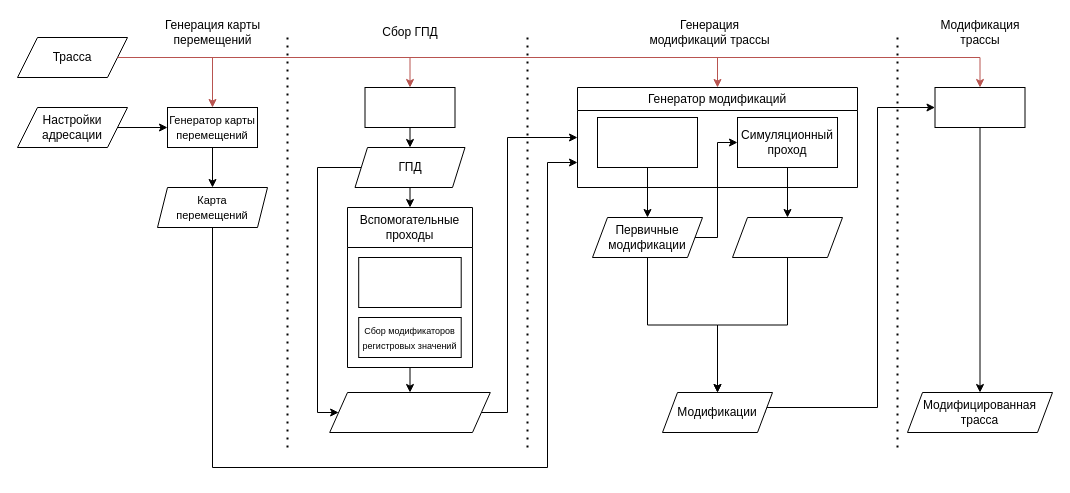
Some shapes in this 1070 by 493 pixel diagram are drawn without their labels. The centre of each missing label's shape, as x and y in pixels:
"Вторичные модификации" belongs at pixel 787 237.
"ГПД + Вспомогательные данные" belongs at pixel 409 412.
"Модификатор трассы" belongs at pixel 979 107.
"Подготовка карт подсказок для анализа адресации" belongs at pixel 409 282.
"Поиск адресов" belongs at pixel 647 142.
"Сборщик ГПД" belongs at pixel 409 107.
